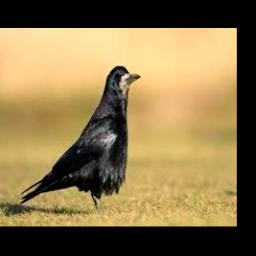Crow: (18, 65, 141, 213)
